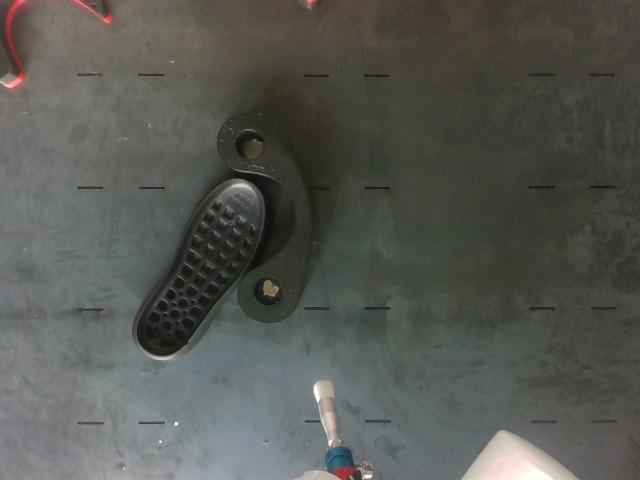shoes: (137, 179, 265, 357)
